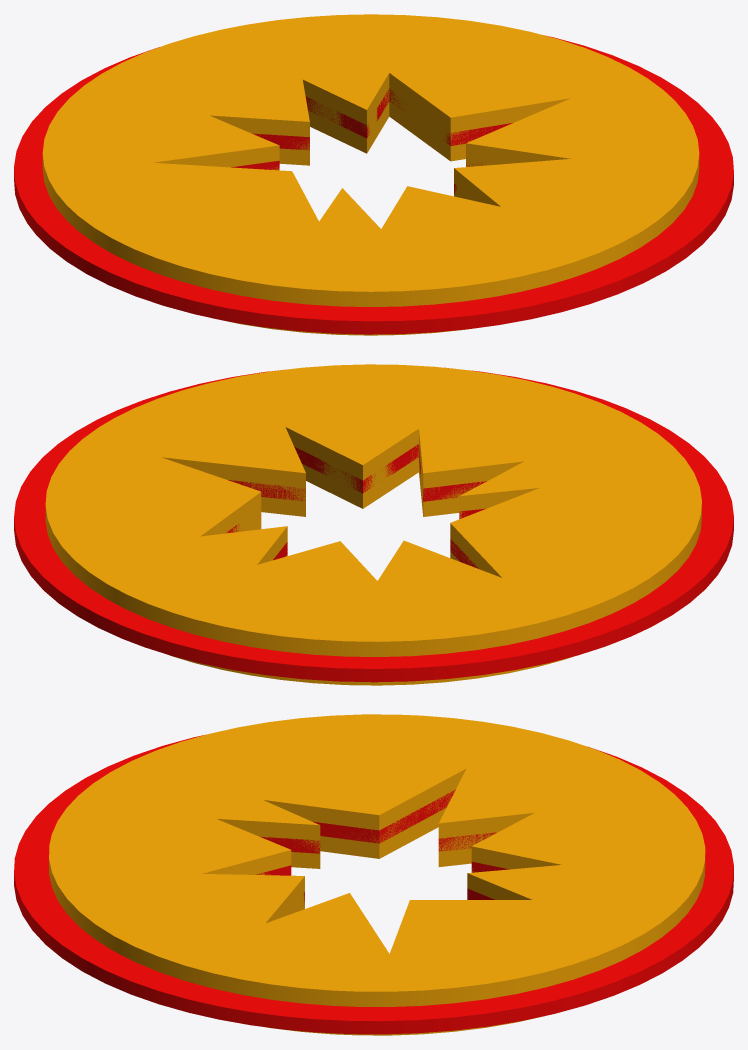
File: bomb.fbx
The picture shows the model from 3 angles, top to bottom: view 1: azimuth 30°, elevation 25°; view 2: azimuth 150°, elevation 25°; view 3: azimuth 270°, elevation 25°; orthographic projection.
Parts seen in each view (by area): view 1: 物件_2, 物件_1; view 2: 物件_2, 物件_1; view 3: 物件_2, 物件_1.
Boxes of the visible parts, x1,y1,x2,y2 form: 物件_2: [42, 14, 699, 335]; 物件_1: [14, 35, 733, 334]; 物件_2: [45, 364, 701, 685]; 物件_1: [14, 367, 733, 682]; 物件_2: [49, 714, 705, 1035]; 物件_1: [14, 735, 733, 1034].
Bounding box in the file's own units: 43.45 × 43.45 × 2.92.
